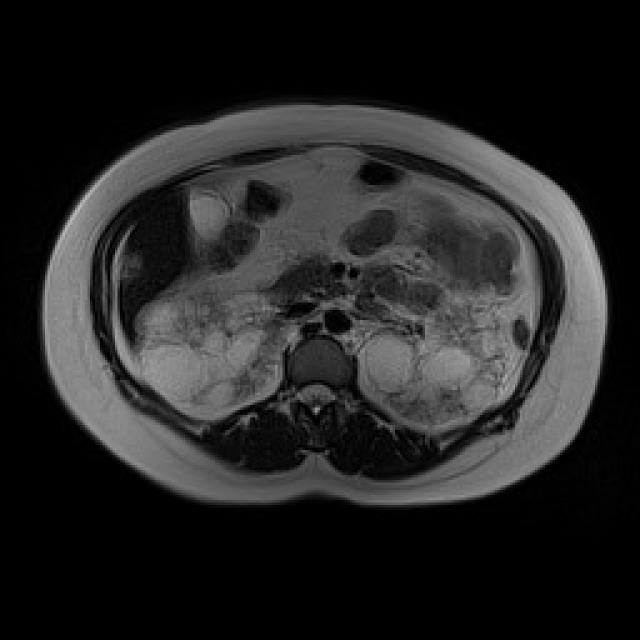sag: (134, 290, 290, 414)
sol: (362, 301, 516, 425)
